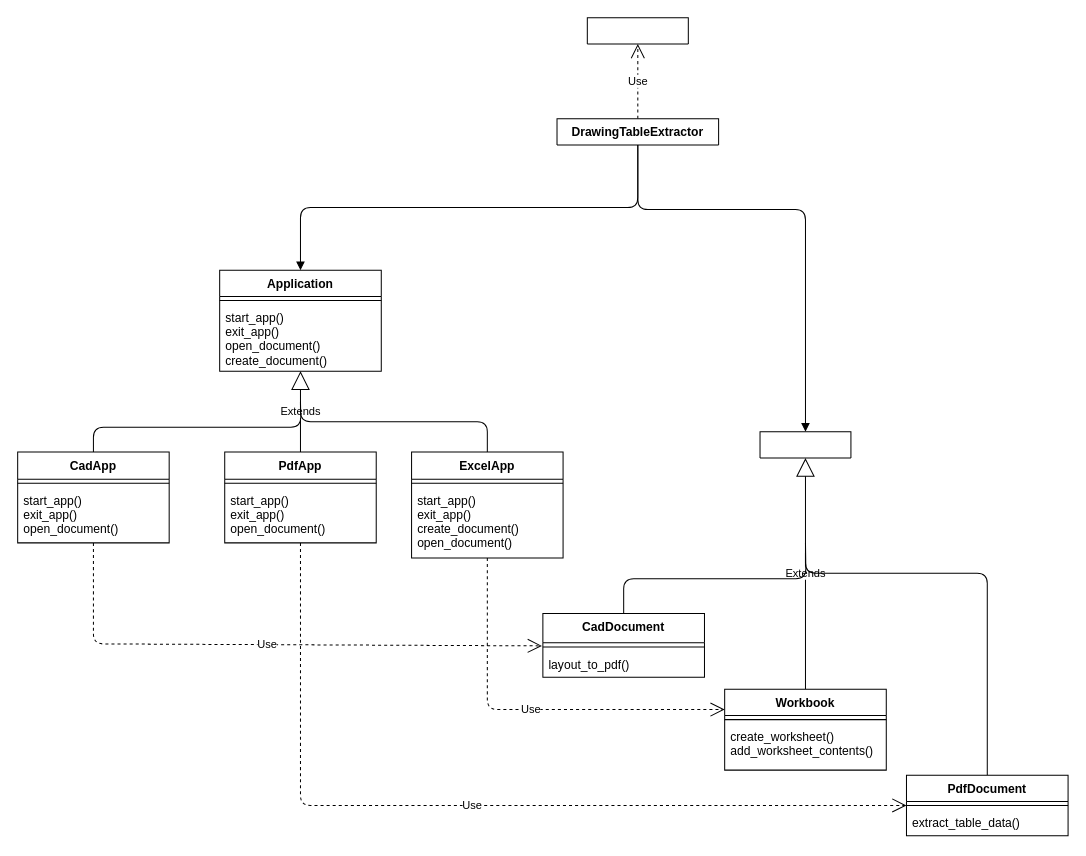
This 1086x856 diagram has some shape labels left out. Each missing label, with the centre of its shape:
Document: point 805,444
Main: point 637,30
